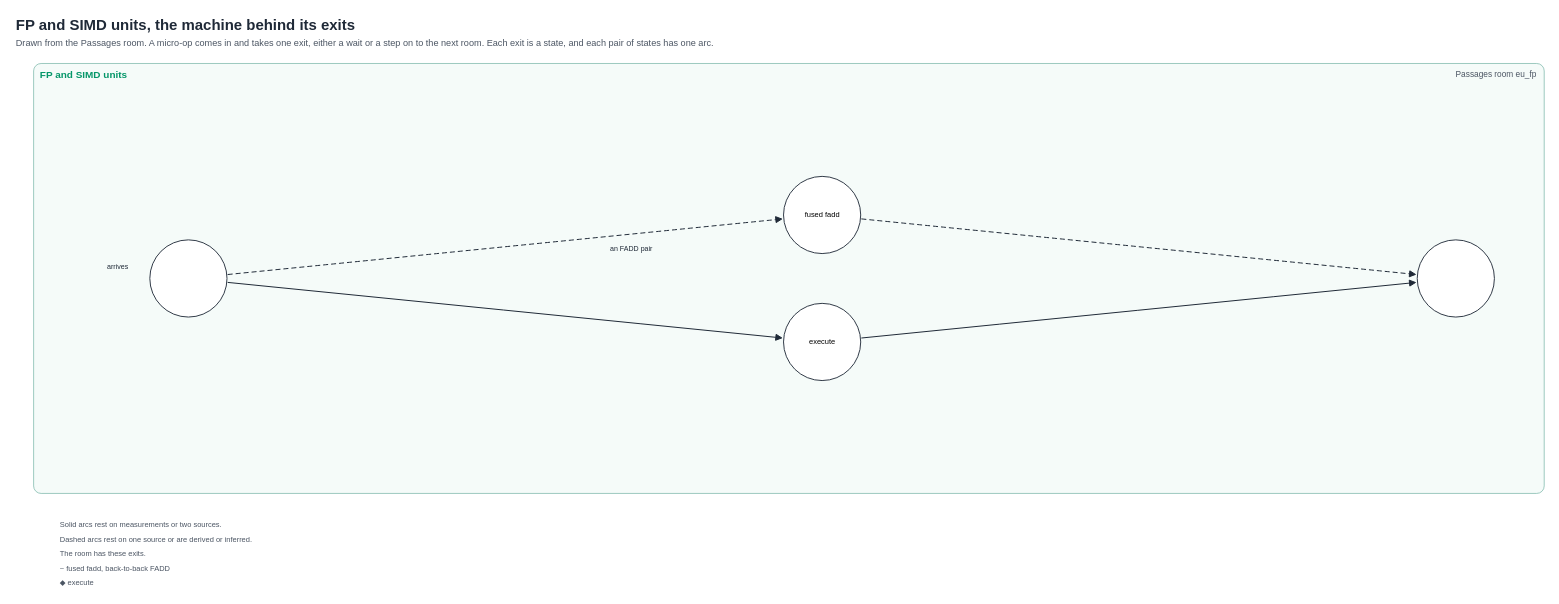
Some shapes in this 1559 by 604 pixel diagram are drawn without their labels. Here are the shapes that lost their labels. From the top down, the centre of each, then its label:
At (188,278): "in".
At (1455,278): "retire".
